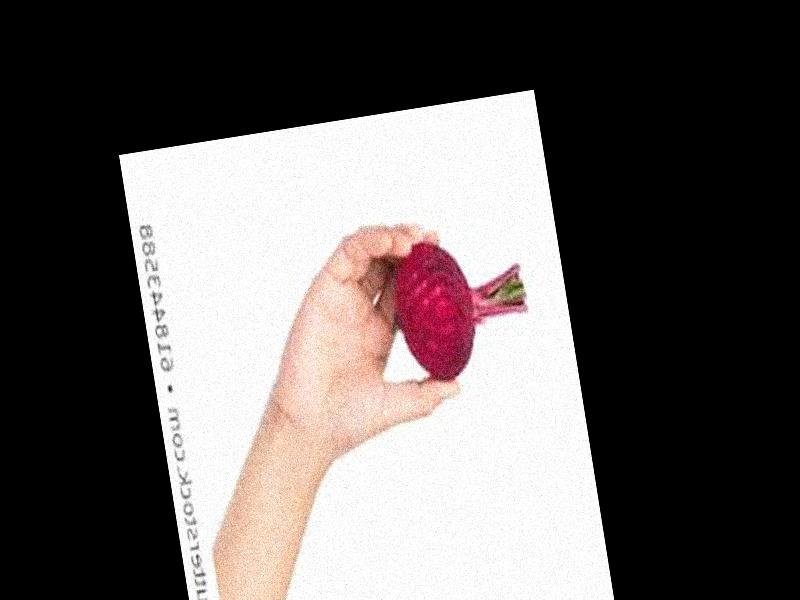Beet: (388, 225, 537, 385)
